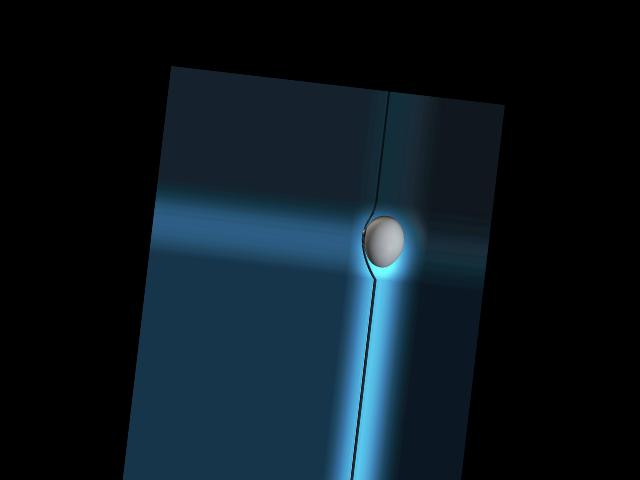egg: (361, 213, 406, 269)
